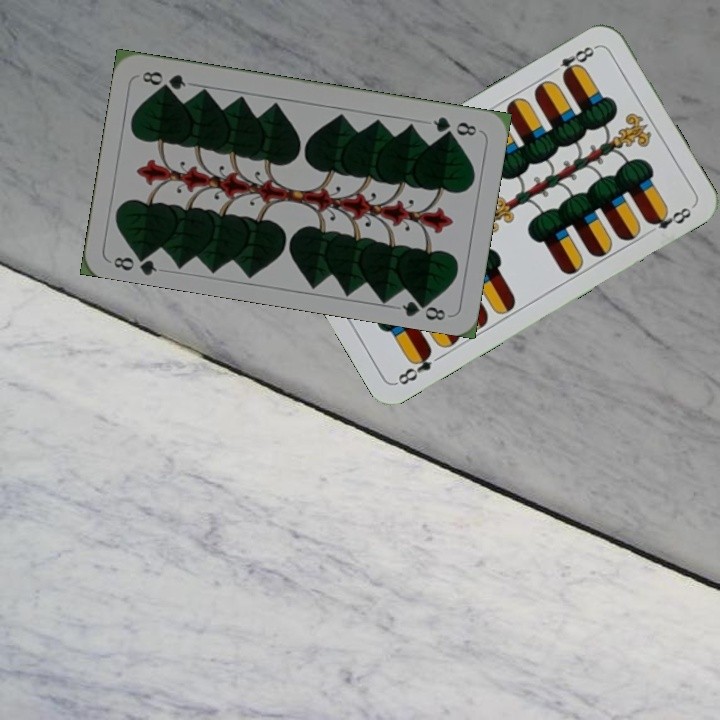E8: (546, 41, 600, 81), (393, 345, 435, 388)
G8: (109, 247, 160, 277), (429, 112, 479, 139)
